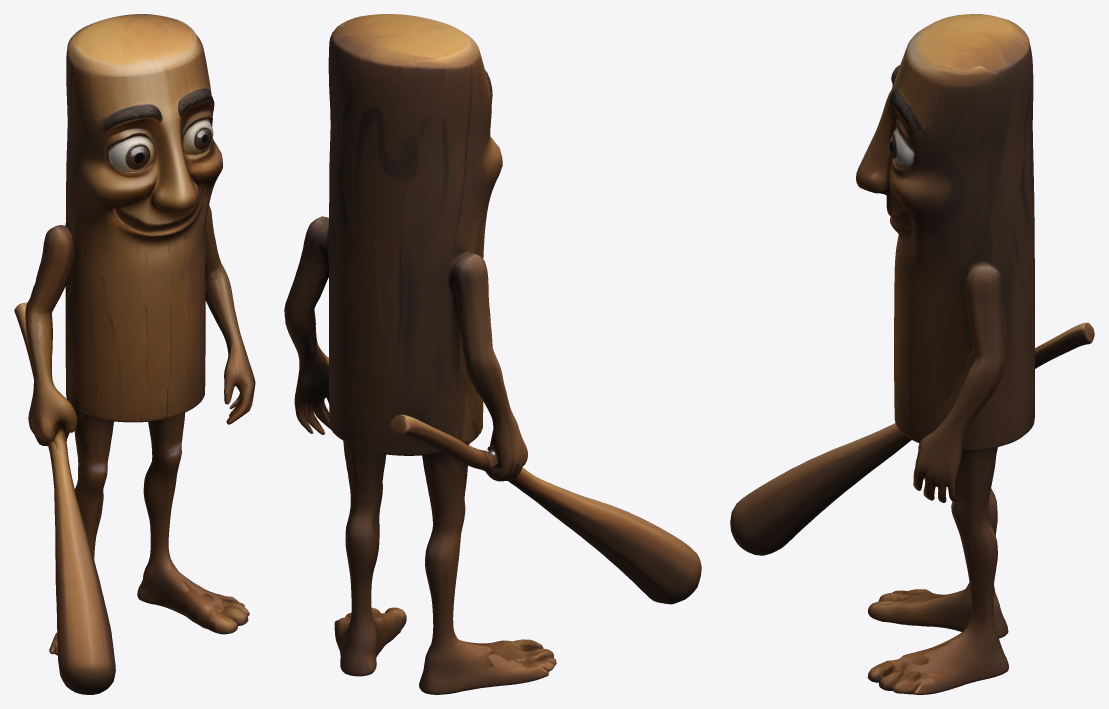
Rendered from tung_tung_tung_sahur.glb.
3 views of the same model, side by side, from view 1: azimuth 30°, elevation 25°; view 2: azimuth 150°, elevation 25°; view 3: azimuth 270°, elevation 25° (orthographic). The views are drawn at different scales.
Visible parts, largest first — view 1: model.001_Material_0; view 2: model.001_Material_0; view 3: model.001_Material_0.
Part boxes in pixels (<box>): model.001_Material_0: <box>14,14,255,694</box>; model.001_Material_0: <box>284,14,701,694</box>; model.001_Material_0: <box>730,14,1094,694</box>.
Bounding box in the file's own units: 7.04 × 14.15 × 7.54.
Materials: 1 (1 with a texture image).
